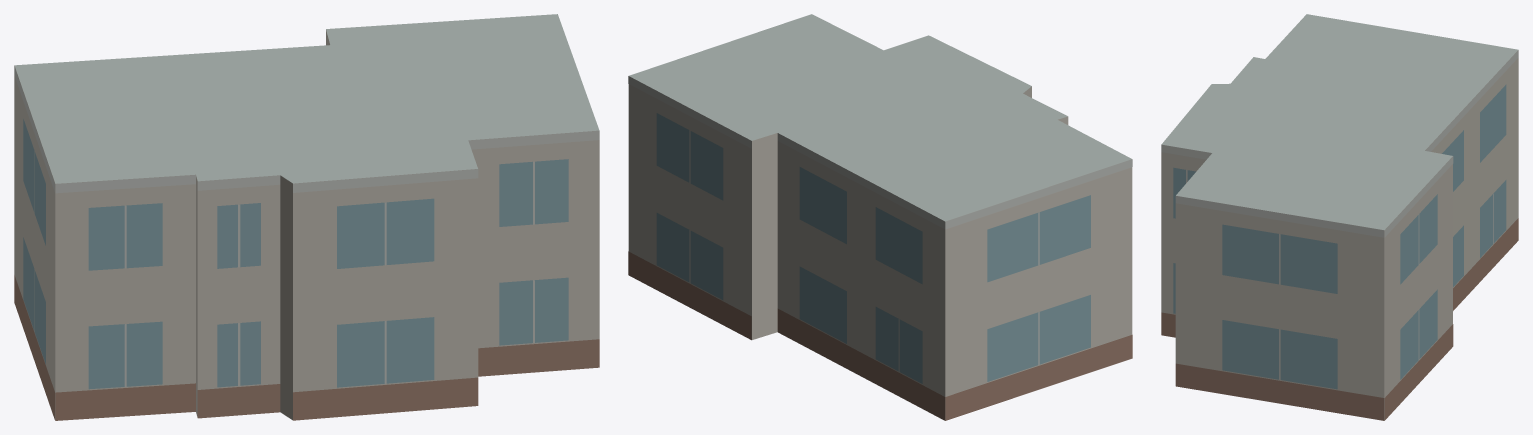
File: survey-upis-33036427.glb
3 views of the same model, side by side, from view 1: azimuth 30°, elevation 25°; view 2: azimuth 150°, elevation 25°; view 3: azimuth 270°, elevation 25° (orthographic). The views are drawn at different scales.
Visible parts, largest first — view 1: survey-upis-33036427.tmp; view 2: survey-upis-33036427.tmp; view 3: survey-upis-33036427.tmp.
Part boxes in pixels (<box>): survey-upis-33036427.tmp: <box>14,14,599,420</box>; survey-upis-33036427.tmp: <box>628,14,1132,420</box>; survey-upis-33036427.tmp: <box>1161,14,1518,420</box>.
Size of the model in its own units: 14.85 by 6.1 by 10.37.
